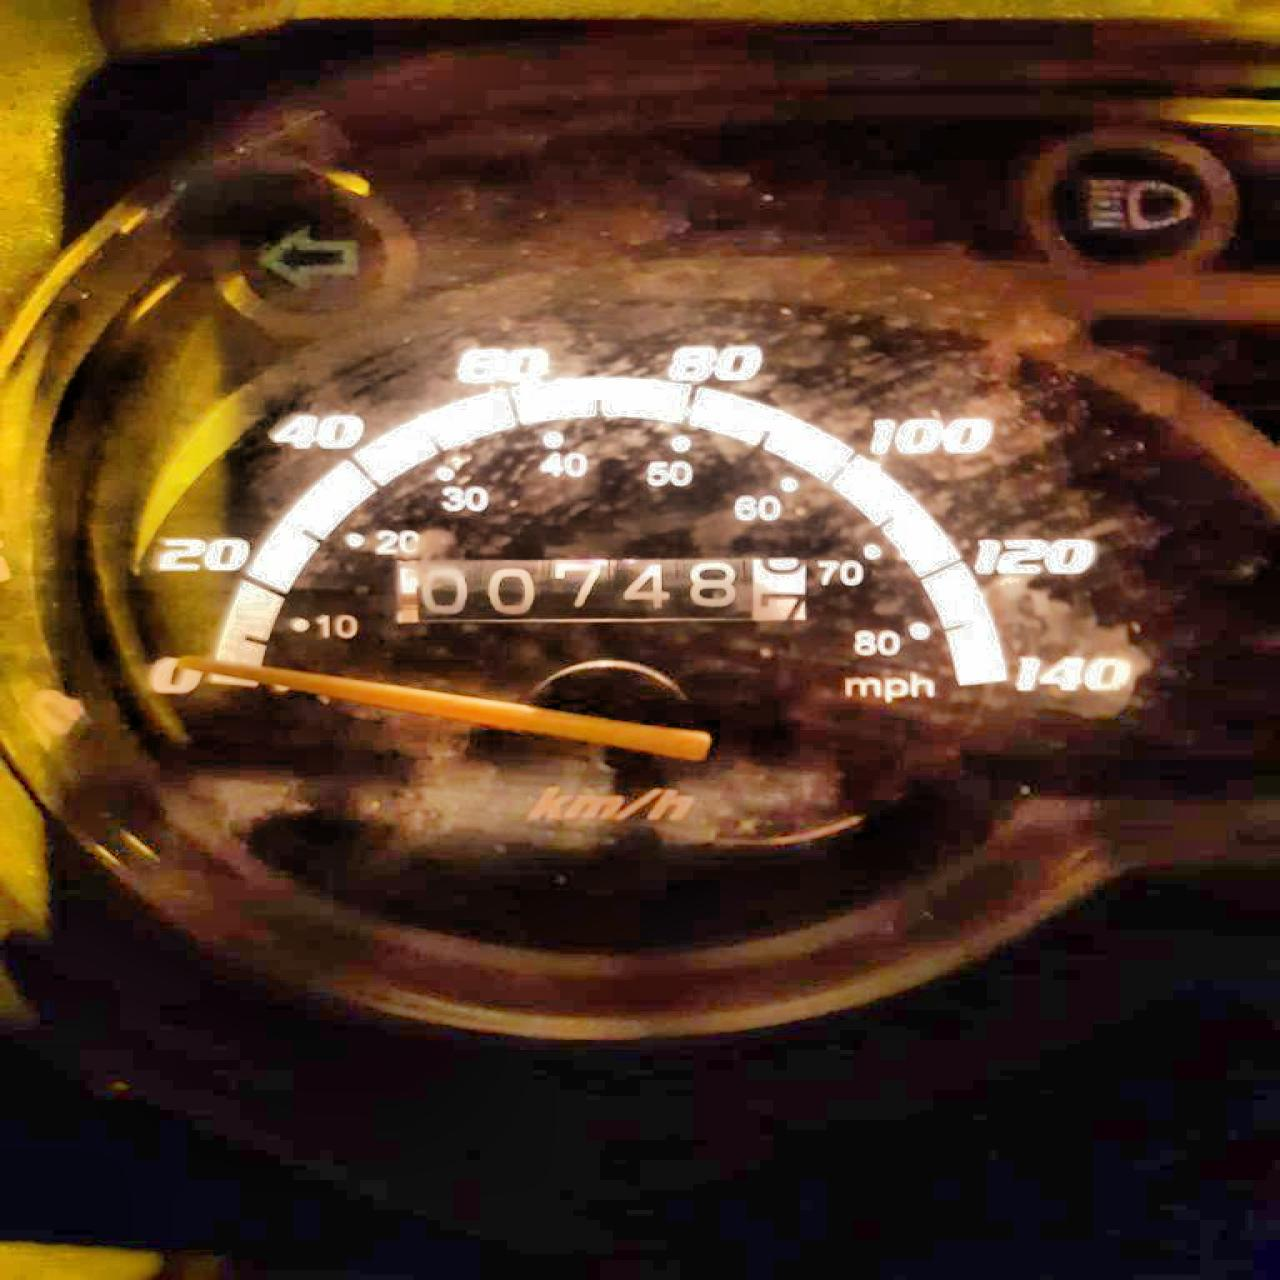0: (483, 565, 538, 617), (418, 564, 470, 615)
4: (617, 560, 673, 610)
7: (545, 559, 604, 610), (748, 587, 806, 621)
8: (685, 560, 738, 610)
odometer: (384, 552, 813, 626)
